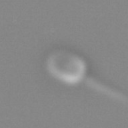normal: (82, 72, 128, 106)
